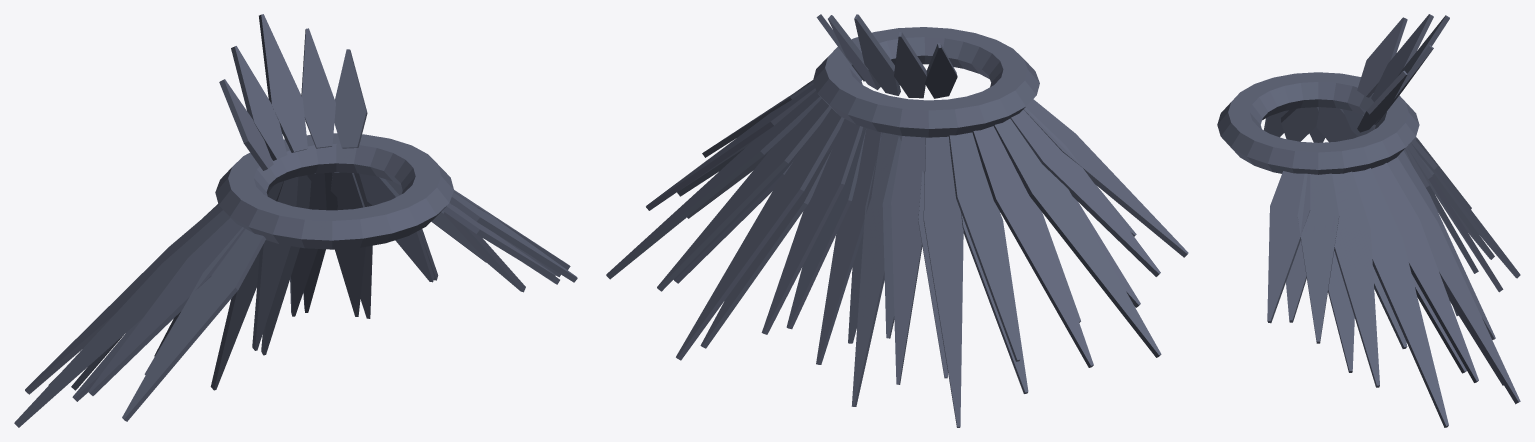
Rendered from RavenMantle.fbx.
3 renders of one model, left to right at view 1: azimuth 30°, elevation 25°; view 2: azimuth 150°, elevation 25°; view 3: azimuth 270°, elevation 25°, orthographic. The views are drawn at different scales.
Visible parts, largest first — view 1: RavenMantle; view 2: RavenMantle; view 3: RavenMantle.
Boxes of the visible parts, x1,y1,x2,y2 form: RavenMantle: (14, 14, 577, 427); RavenMantle: (606, 14, 1188, 427); RavenMantle: (1217, 14, 1520, 427).
Bounding box in the file's own units: 53.48 × 36.3 × 29.17.
